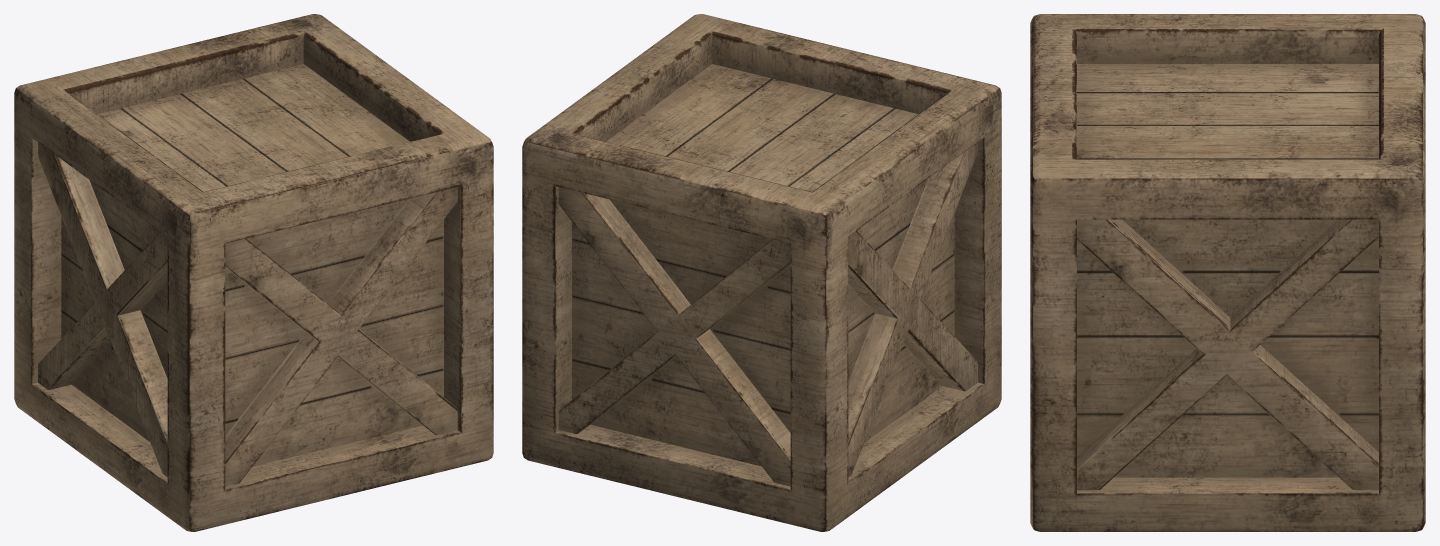
File: Crate.obj
3 renders of one model, left to right at view 1: azimuth 30°, elevation 25°; view 2: azimuth 150°, elevation 25°; view 3: azimuth 270°, elevation 25°, orthographic. The views are drawn at different scales.
Visible parts, largest first — view 1: Crate_Cube.009; view 2: Crate_Cube.009; view 3: Crate_Cube.009.
Boxes of the visible parts, x1,y1,x2,y2 form: Crate_Cube.009: (14,14,493,531); Crate_Cube.009: (522,14,1001,531); Crate_Cube.009: (1030,14,1425,531).
Size of the model in its own units: 2 by 2 by 2.
1 material, 1 textured.
